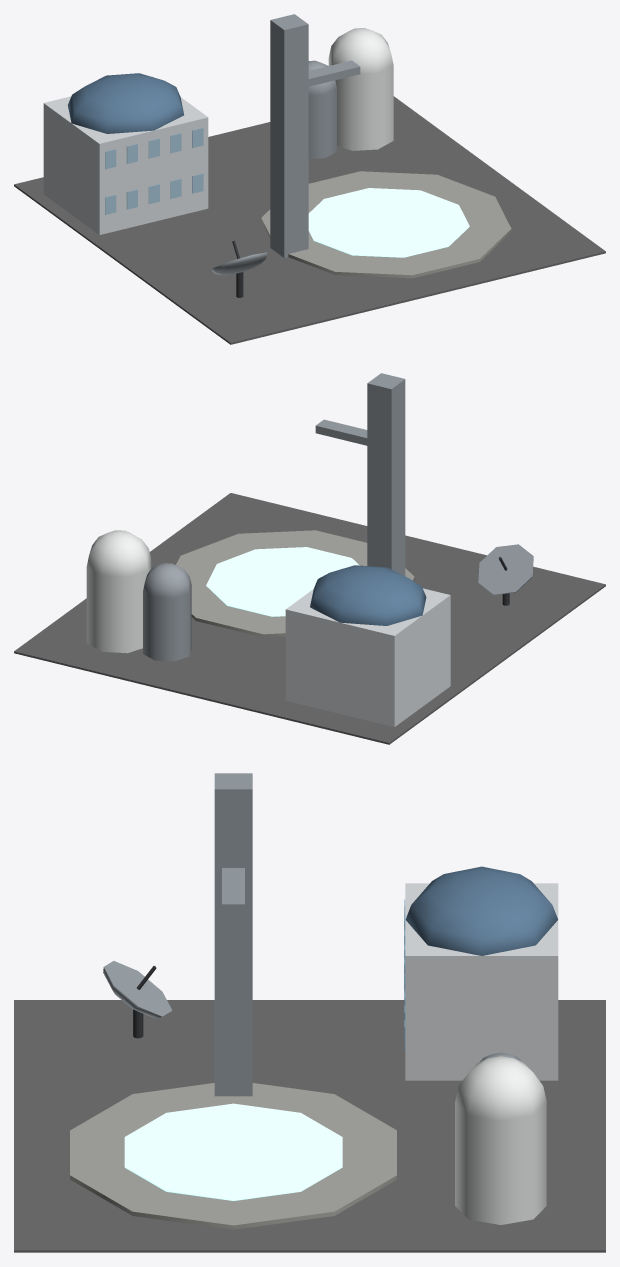
The model's file is bld_special_spaceport_a09_lod1.glb.
The picture shows the model from 3 angles, top to bottom: view 1: azimuth 30°, elevation 25°; view 2: azimuth 150°, elevation 25°; view 3: azimuth 270°, elevation 25°; orthographic projection. The views are drawn at different scales.
Parts seen in each view (by area): view 1: body, gantry, antenna; view 2: body, gantry, antenna; view 3: body, gantry, antenna.
Boxes of the visible parts, x1,y1,x2,y2 form: body: [14, 28, 605, 344]; gantry: [270, 14, 360, 258]; antenna: [212, 240, 267, 297]; body: [14, 493, 605, 744]; gantry: [315, 373, 405, 575]; antenna: [478, 544, 533, 605]; body: [14, 866, 605, 1252]; gantry: [214, 773, 252, 1096]; antenna: [103, 961, 172, 1038].
Size of the model in its own units: 31 by 18.15 by 31.
